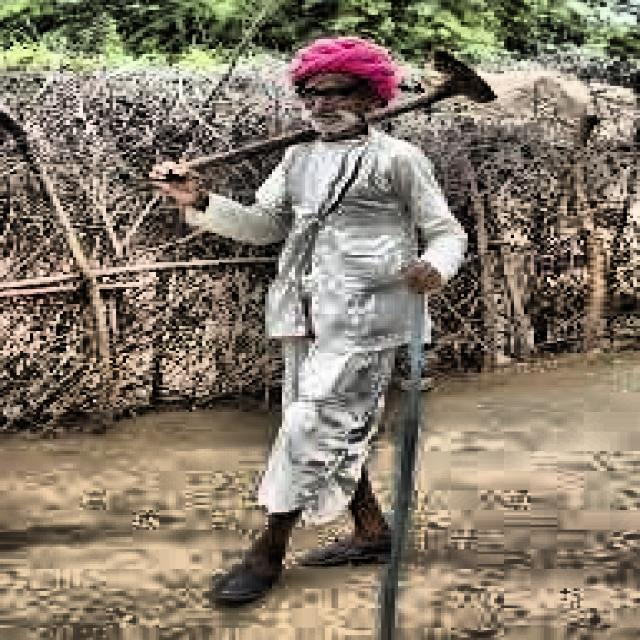Human: (144, 22, 471, 614)
